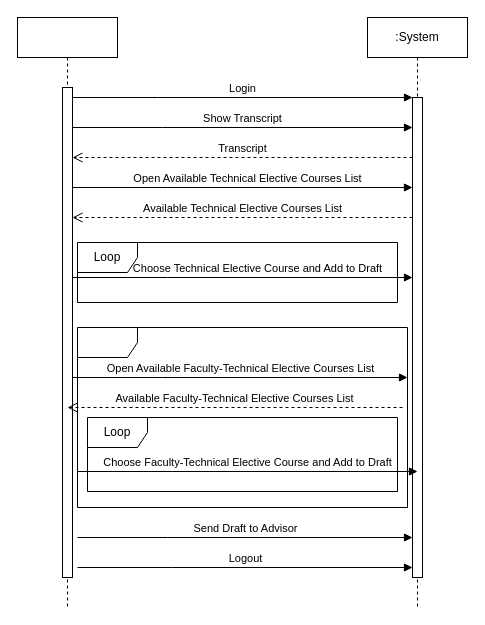
The diagram is 485 pixels wide and 625 high, and some of its shapes have lost their labels. Each missing label, with the box of its shape:
:Student: (16, 16, 118, 608)
ALT: (76, 326, 408, 508)
